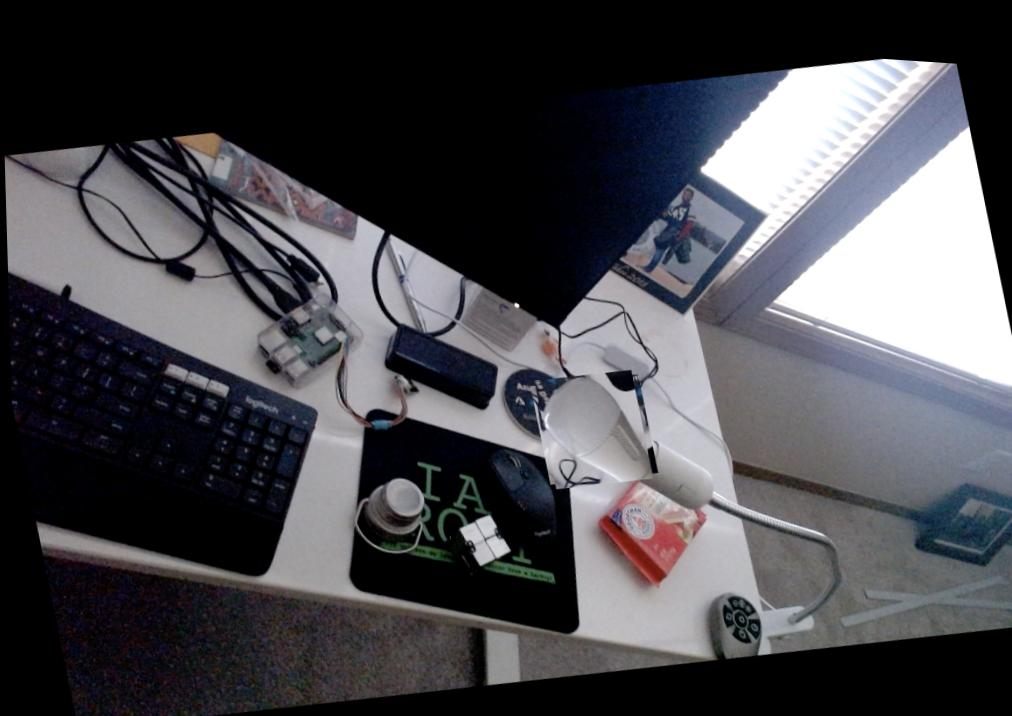Fan: (530, 357, 654, 485)
